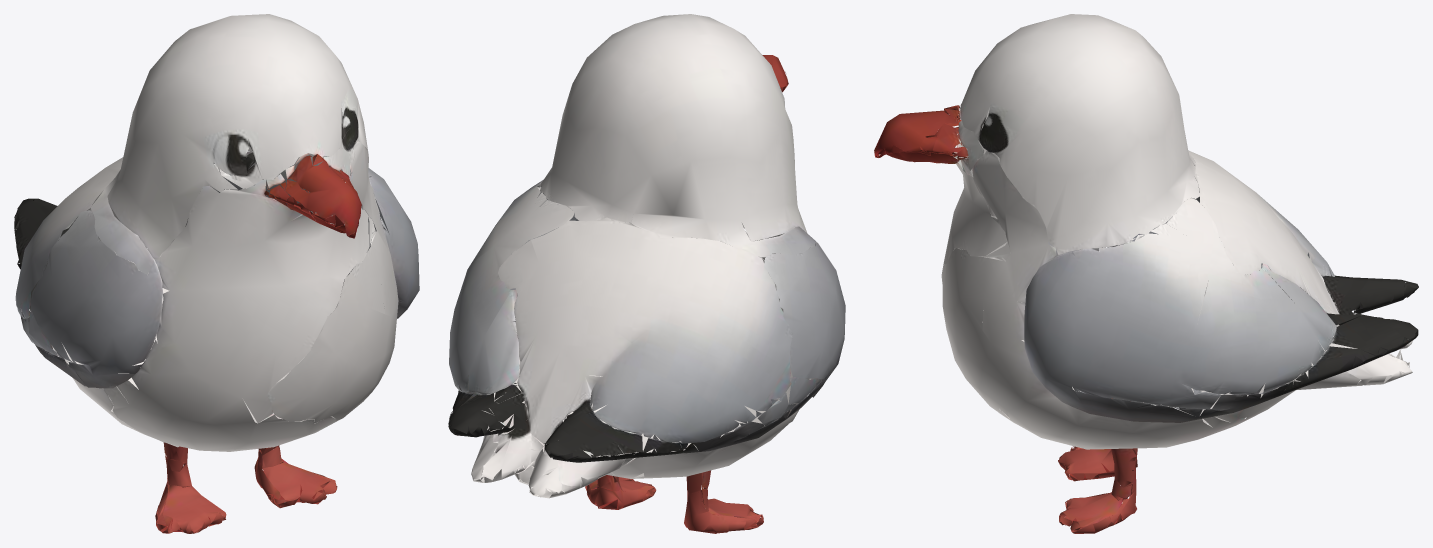
The model's file is gull.glb.
3 views of the same model, side by side, from view 1: azimuth 30°, elevation 25°; view 2: azimuth 150°, elevation 25°; view 3: azimuth 270°, elevation 25° (orthographic). The views are drawn at different scales.
Visible parts, largest first — view 1: model; view 2: model; view 3: model.
Part boxes in pixels (<box>): model: <box>14,14,419,533</box>; model: <box>448,14,845,533</box>; model: <box>874,14,1418,533</box>.
Size of the model in its own units: 1.34 by 1.82 by 1.9.
1 material, 1 textured.
